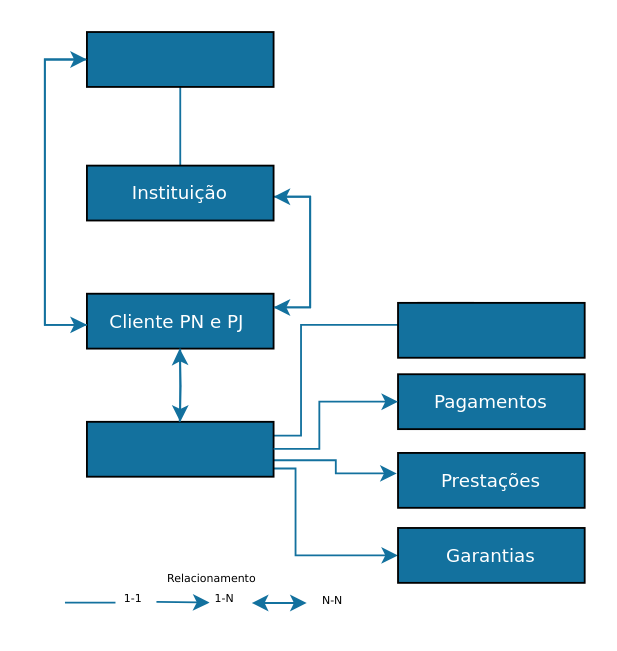
Image size: 617x651. Some labels were removed from this diagram. Here are the shapes that lost their labels. From the top down, the box of each, then its label:
(85, 30, 274, 87): Marca
(396, 301, 585, 358): Contrato
(85, 420, 274, 477): Financiamentos
